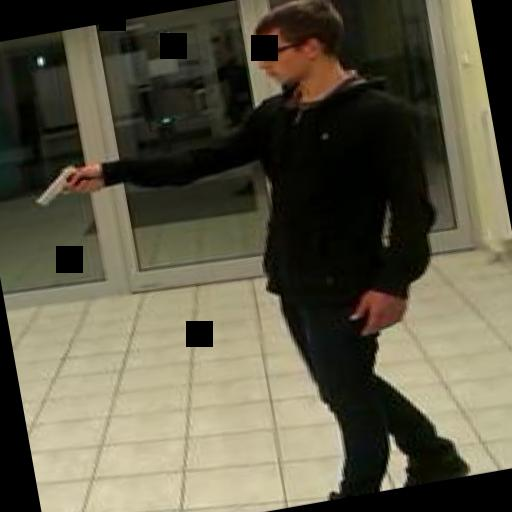Handgun: (24, 158, 99, 208)
